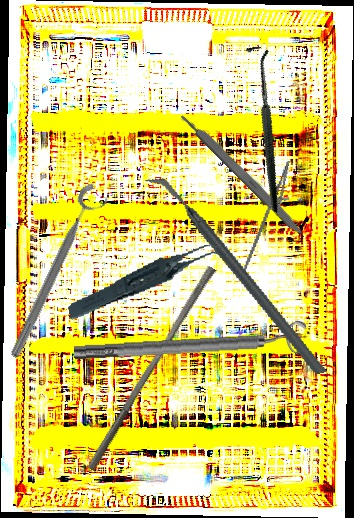Chopper: (143, 146, 329, 406)
Fixation Ring: (5, 180, 113, 366), (73, 319, 308, 371)
Hook Surgical: (191, 42, 335, 213)
Needle Holder: (241, 156, 300, 280)
Pusher: (86, 261, 217, 476)
Scalpel Handle: (178, 109, 310, 241)
Tissue Forceps: (61, 242, 233, 321)
